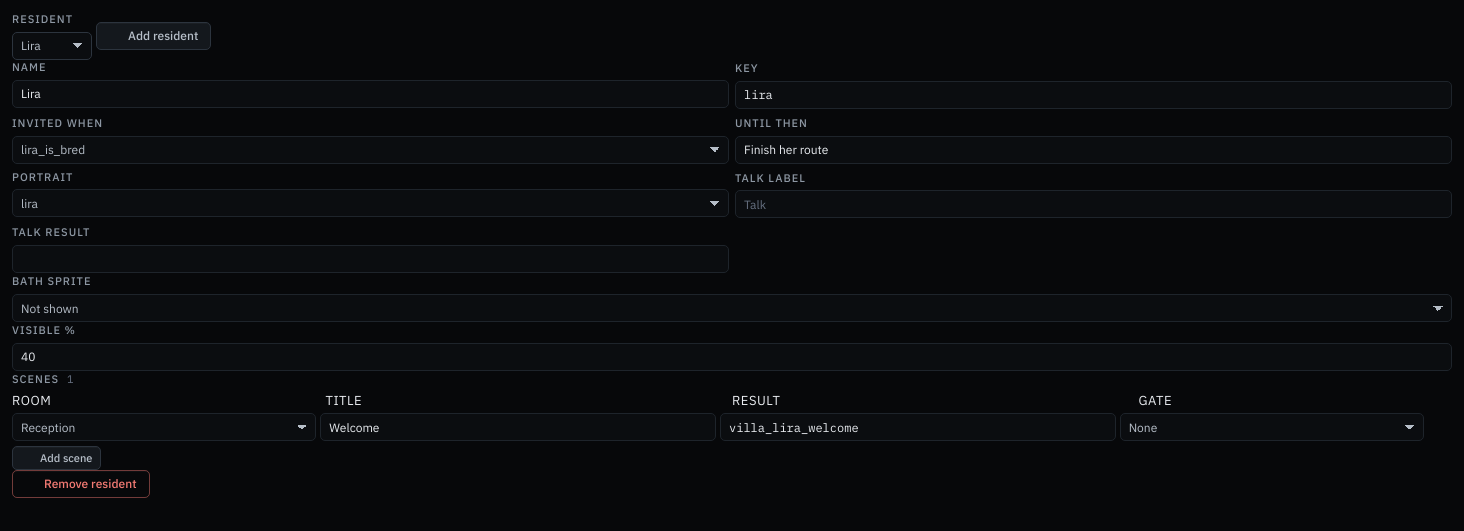
it: EstateResidents › renames her key everywhere a room knows it, and refuses a clash
Click the button "Add resident".
click(154, 36)  # box [96,22,211,50]
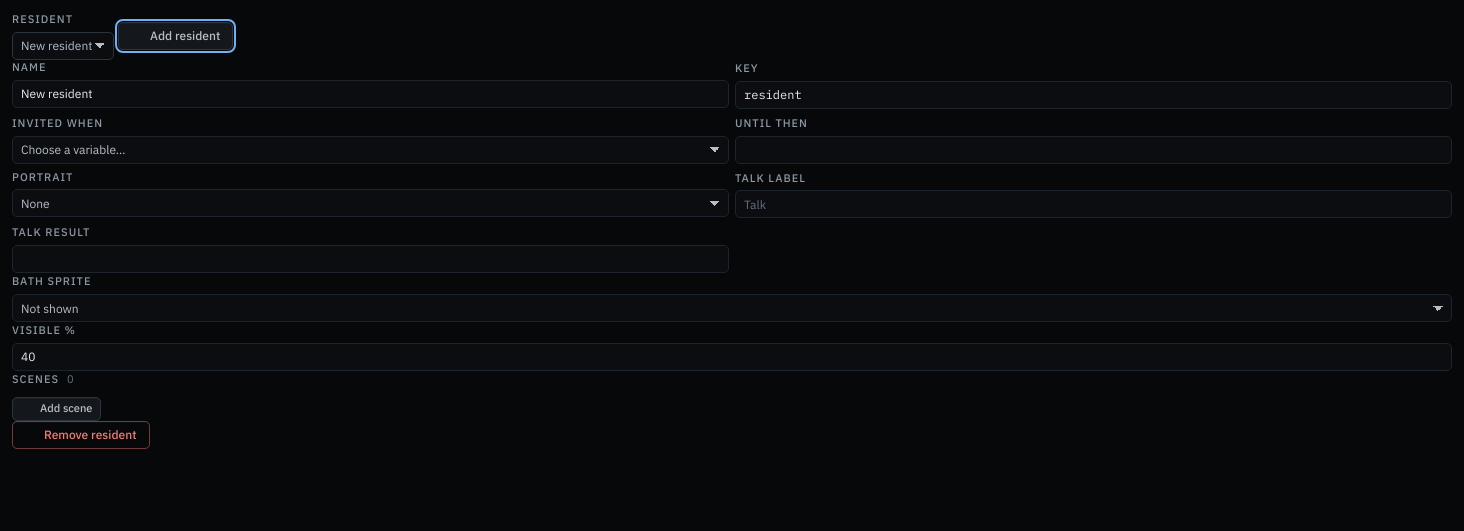
Back to Lira, whose suite is reserved under her old key.
Select "Lira" in the dropdown named "Selected resident" at (63, 46), box [12,32,114,60]
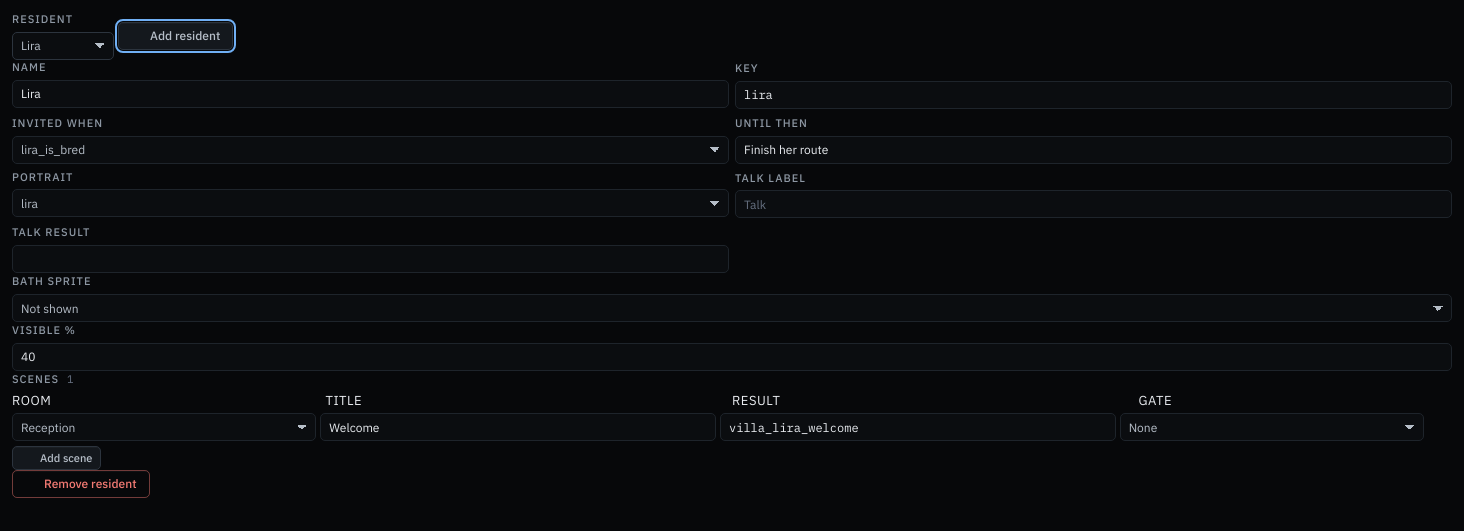
Replace the text in the field named "Resident key" with "Lira Prime" at (1094, 95), box [735,81,1452,109]
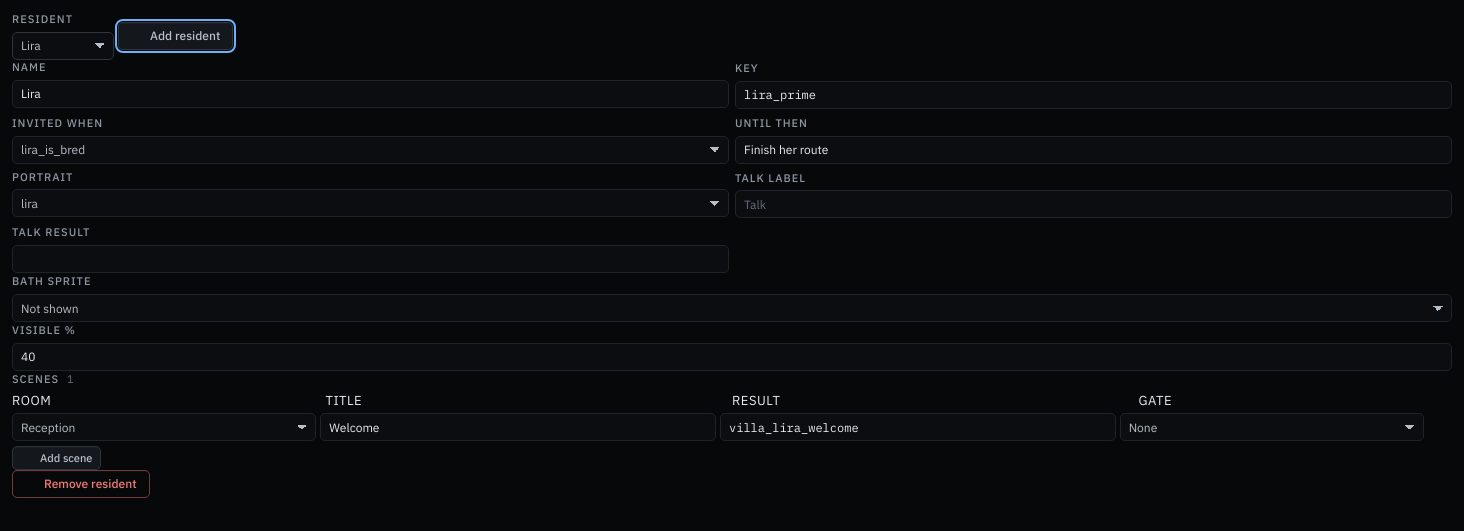
Replace the text in the field named "Resident key" with "resident" at (1094, 95), box [735,81,1452,109]
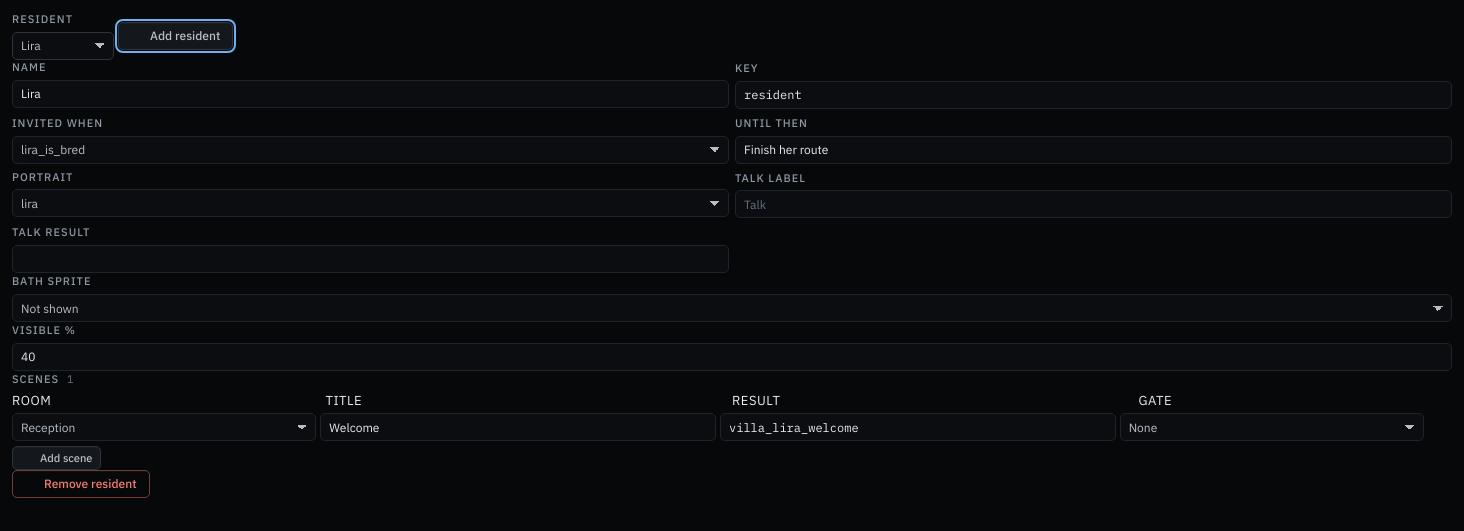
Leave the field named "Resident key", box [735,81,1452,109]
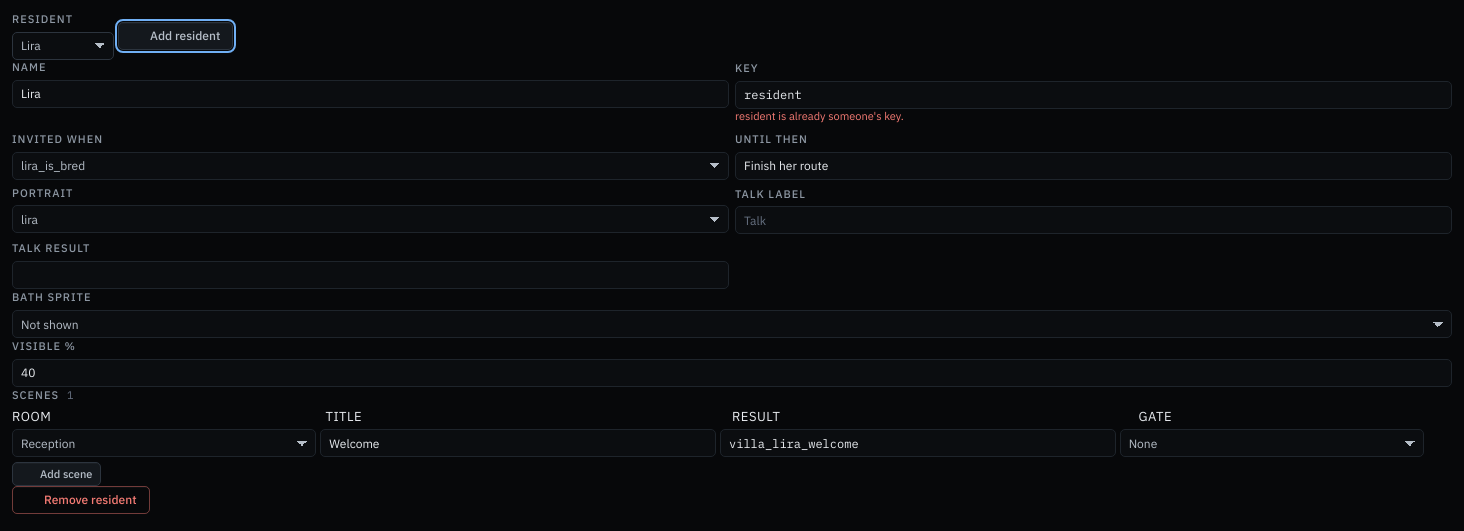
Expected: the text "resident is already someone's key." is shown, [735,109,904,123]
